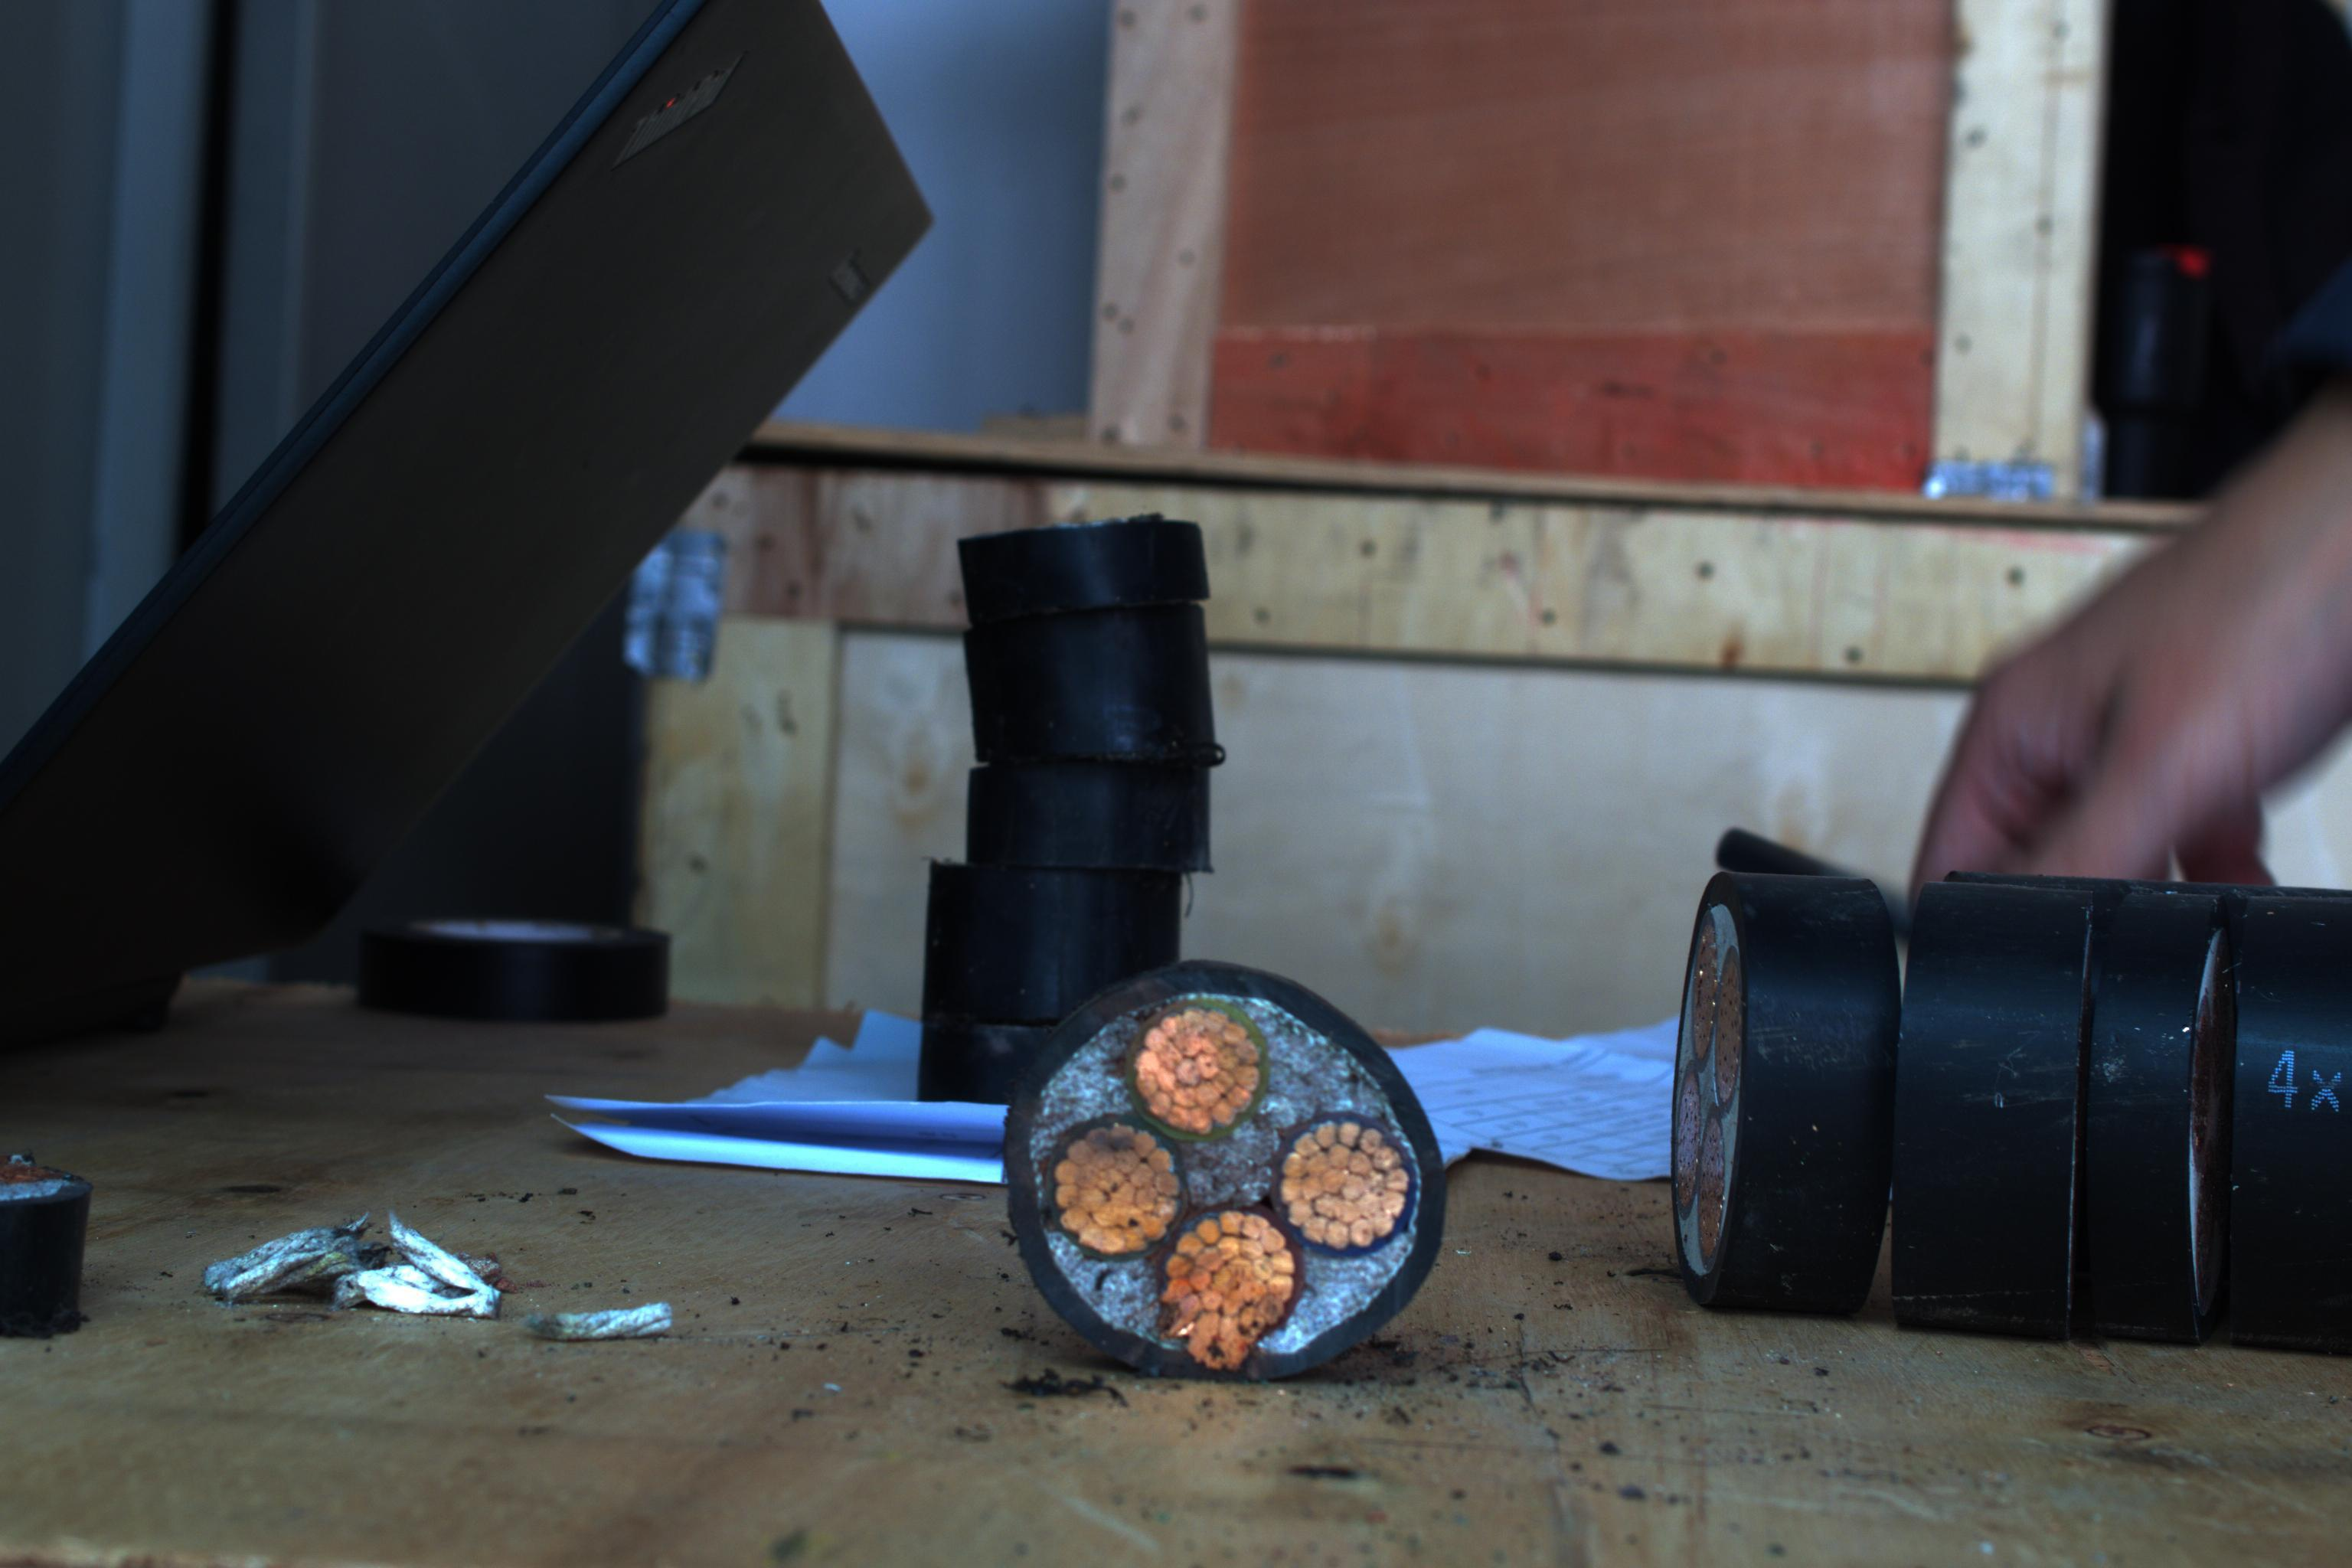YJV_0.6_1kV_4x120: (1001, 968, 1449, 1367)
